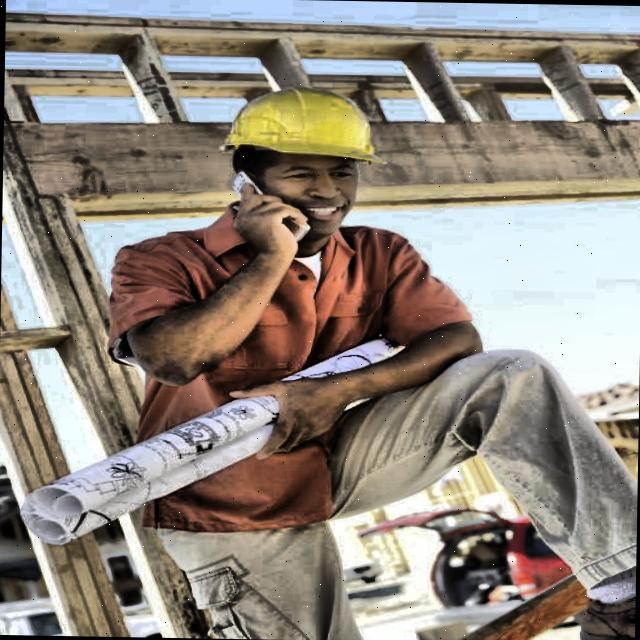helmet: (212, 82, 382, 242)
